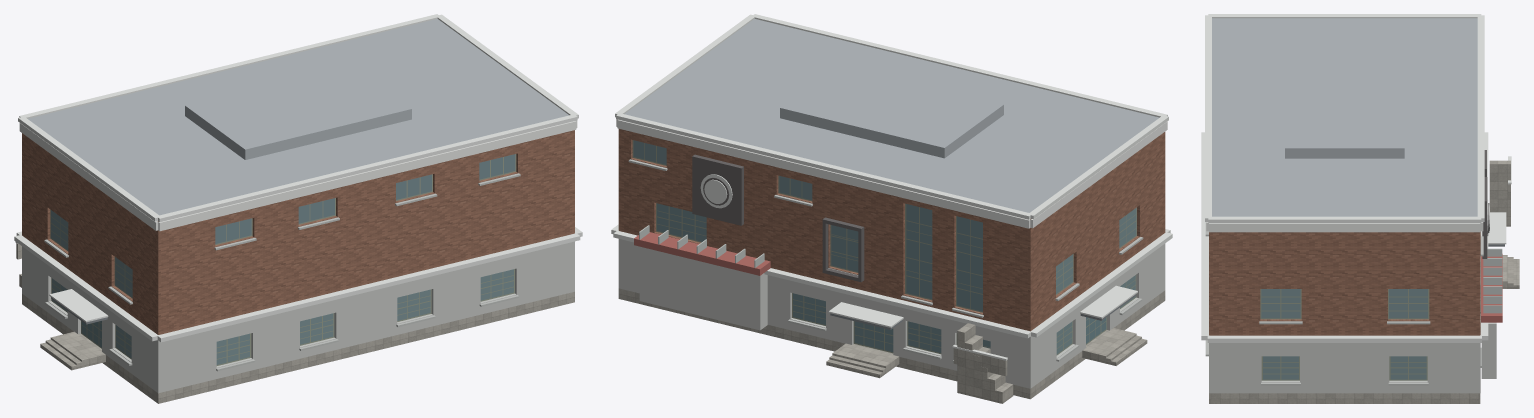
The picture shows the model from 3 angles, left to right: view 1: azimuth 30°, elevation 25°; view 2: azimuth 150°, elevation 25°; view 3: azimuth 270°, elevation 25°; orthographic projection.
Visible parts, largest first — view 1: neulbom-hall__brick, neulbom-hall__metalroof, neulbom-hall__basepaint, neulbom-hall__cap, neulbom-hall__stone, neulbom-hall__band, neulbom-hall__sideglass, neulbom-hall__clerestoryglass, neulbom-hall__frame, neulbom-hall__sill, neulbom-hall__stair-north-side, neulbom-hall__threshold-north-side; view 2: neulbom-hall__metalroof, neulbom-hall__brick, neulbom-hall__basepaint, neulbom-hall__cap, neulbom-hall__glass, neulbom-hall__band, neulbom-hall__stone, neulbom-hall__darkframe, neulbom-hall__frame, neulbom-hall__extstair, neulbom-hall__terracotta, neulbom-hall__sideglass (+7 smaller); view 3: neulbom-hall__metalroof, neulbom-hall__brick, neulbom-hall__basepaint, neulbom-hall__cap, neulbom-hall__sideglass, neulbom-hall__stone, neulbom-hall__band, neulbom-hall__frame, neulbom-hall__steel, neulbom-hall__extstair, neulbom-hall__sill, neulbom-hall__terracotta (+2 smaller).
Part boxes in pixels (bbox=[...]): neulbom-hall__brick: bbox=[22, 130, 574, 334]; neulbom-hall__metalroof: bbox=[28, 19, 568, 215]; neulbom-hall__basepaint: bbox=[22, 241, 574, 393]; neulbom-hall__cap: bbox=[14, 14, 582, 342]; neulbom-hall__stone: bbox=[16, 243, 574, 403]; neulbom-hall__band: bbox=[19, 120, 577, 231]; neulbom-hall__sideglass: bbox=[51, 210, 513, 364]; neulbom-hall__clerestoryglass: bbox=[215, 154, 515, 243]; neulbom-hall__frame: bbox=[50, 154, 516, 365]; neulbom-hall__sill: bbox=[44, 173, 520, 371]; neulbom-hall__stair-north-side: bbox=[40, 336, 87, 370]; neulbom-hall__threshold-north-side: bbox=[56, 331, 105, 366]; neulbom-hall__metalroof: bbox=[624, 18, 1159, 212]; neulbom-hall__brick: bbox=[618, 129, 1165, 331]; neulbom-hall__basepaint: bbox=[618, 239, 1165, 388]; neulbom-hall__cap: bbox=[611, 14, 1172, 360]; neulbom-hall__glass: bbox=[657, 203, 1106, 352]; neulbom-hall__band: bbox=[616, 119, 1167, 228]; neulbom-hall__stone: bbox=[618, 288, 1165, 399]; neulbom-hall__darkframe: bbox=[692, 154, 864, 282]; neulbom-hall__frame: bbox=[632, 140, 1136, 355]; neulbom-hall__extstair: bbox=[957, 323, 1013, 403]; neulbom-hall__terracotta: bbox=[634, 232, 770, 275]; neulbom-hall__sideglass: bbox=[1056, 208, 1136, 354]; neulbom-hall__metalroof: bbox=[1212, 18, 1477, 216]; neulbom-hall__brick: bbox=[1209, 231, 1480, 335]; neulbom-hall__basepaint: bbox=[1209, 322, 1496, 393]; neulbom-hall__cap: bbox=[1201, 14, 1511, 342]; neulbom-hall__sideglass: bbox=[1261, 289, 1427, 379]; neulbom-hall__stone: bbox=[1209, 184, 1510, 403]; neulbom-hall__band: bbox=[1206, 222, 1483, 232]; neulbom-hall__frame: bbox=[1260, 289, 1429, 380]; neulbom-hall__steel: bbox=[1483, 248, 1502, 313]; neulbom-hall__extstair: bbox=[1489, 160, 1510, 226]; neulbom-hall__sill: bbox=[1205, 222, 1483, 385]; neulbom-hall__terracotta: bbox=[1481, 254, 1502, 322].
Bounding box in the file's own units: 32.97 × 13.49 × 19.97.
16 materials, 2 textured.
